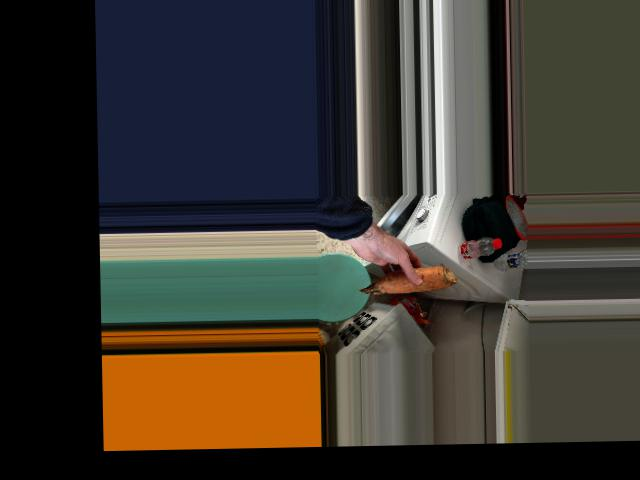sweet_potato: (360, 266, 450, 293)
